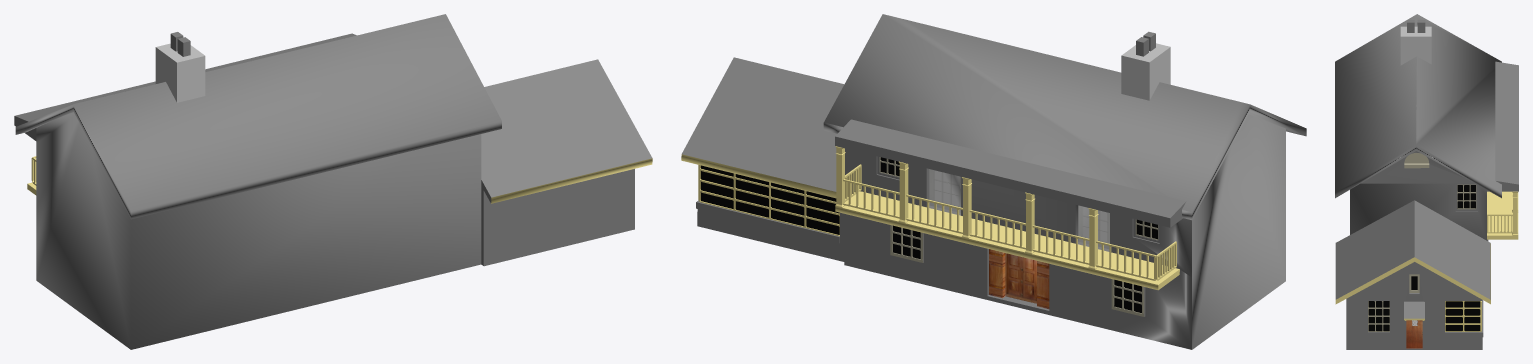
File: bldgtest.obj
The picture shows the model from 3 angles, left to right: view 1: azimuth 30°, elevation 25°; view 2: azimuth 150°, elevation 25°; view 3: azimuth 270°, elevation 25°; orthographic projection. The views are drawn at different scales.
Parts seen in each view (by area): view 1: House, House.009, House.005; view 2: House, House.009, House.002, Railing, Pillars, DoorFront, House.005, DoorFloor2, House.001, House.004; view 3: House.009, House, House.002, House.005, House.003, House.008, Door1, House.006, House.010, Railing, Pillars, House.007.
Part boxes in pixels (<box>): House: <box>27,59,652,349</box>; House.009: <box>14,14,501,219</box>; House.005: <box>155,32,205,102</box>; House: <box>681,57,1285,349</box>; House.009: <box>823,14,1306,227</box>; House.002: <box>696,165,839,243</box>; Railing: <box>843,164,1176,280</box>; Pillars: <box>835,146,1098,269</box>; DoorFront: <box>989,249,1049,309</box>; House.005: <box>1121,31,1170,100</box>; DoorFloor2: <box>926,168,1109,251</box>; House.001: <box>890,225,1145,316</box>; House.004: <box>876,156,1159,243</box>; House.009: <box>1335,14,1518,198</box>; House: <box>1335,24,1518,349</box>; House.002: <box>1445,300,1483,337</box>; House.005: <box>1400,20,1431,65</box>; House.003: <box>1368,301,1389,332</box>; House.008: <box>1455,183,1477,211</box>; Door1: <box>1406,320,1422,348</box>; House.006: <box>1404,301,1424,320</box>; House.010: <box>1404,153,1429,168</box>; Railing: <box>1487,214,1512,233</box>; Pillars: <box>1512,191,1518,235</box>; House.007: <box>1409,274,1419,295</box>.
Size of the model in its own units: 9.76 by 4.43 by 3.99.
